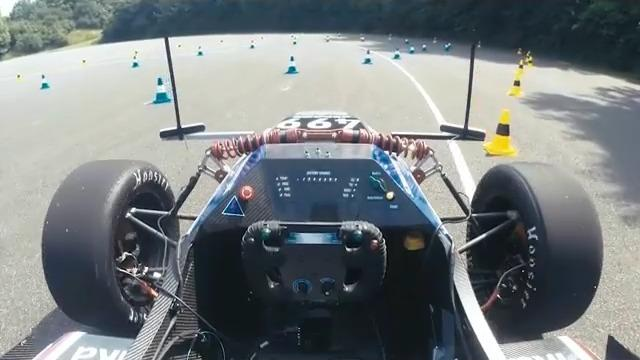blue_cone: (153, 77, 172, 105), (286, 55, 300, 74), (39, 74, 50, 91), (362, 49, 373, 64)
yellow_cone: (484, 108, 519, 157), (508, 75, 525, 97)
